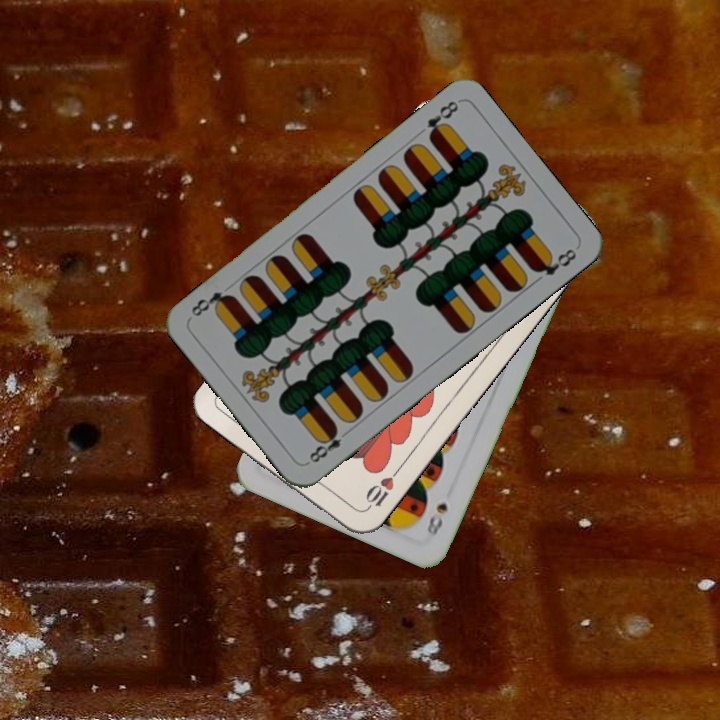E8: (303, 423, 353, 467), (422, 96, 461, 143)
H10: (360, 465, 402, 514)
S8: (422, 498, 451, 539)
